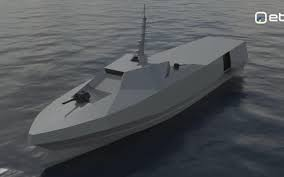Ship: (27, 35, 246, 151)
